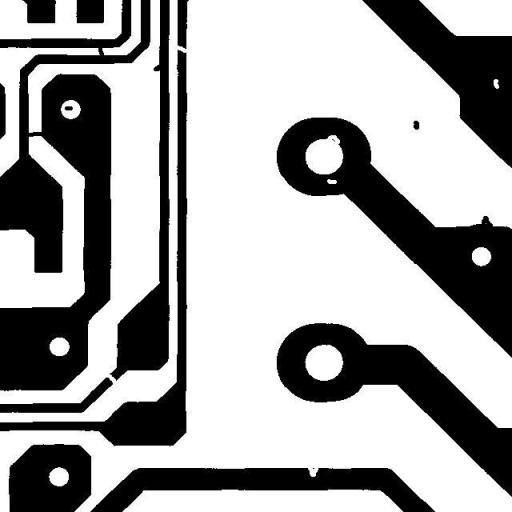copper: (406, 113, 426, 137), (57, 98, 80, 118)
mousebite: (292, 455, 326, 484), (320, 127, 347, 152)
open: (98, 366, 124, 392), (168, 38, 198, 60)
pin-hole: (319, 171, 344, 191), (486, 71, 506, 96)
short: (14, 124, 53, 144), (90, 34, 111, 64)
spur: (474, 208, 500, 234), (146, 56, 170, 78)
